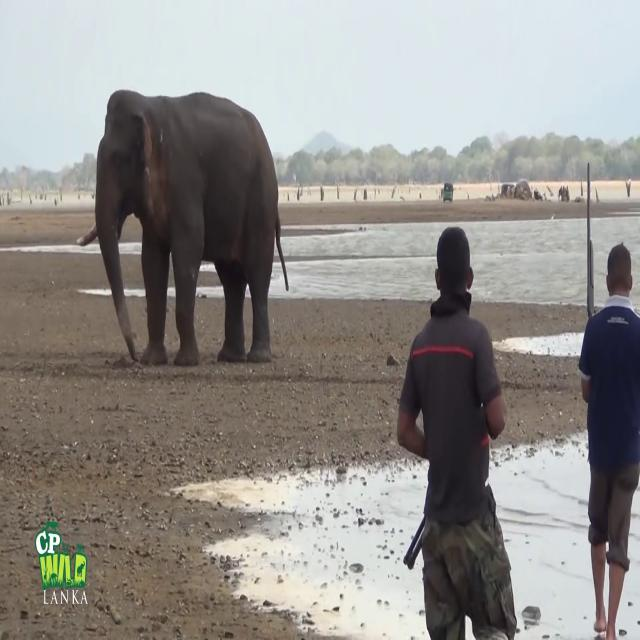Elephant: (77, 88, 289, 367)
person: (397, 226, 517, 639), (577, 242, 640, 639)
